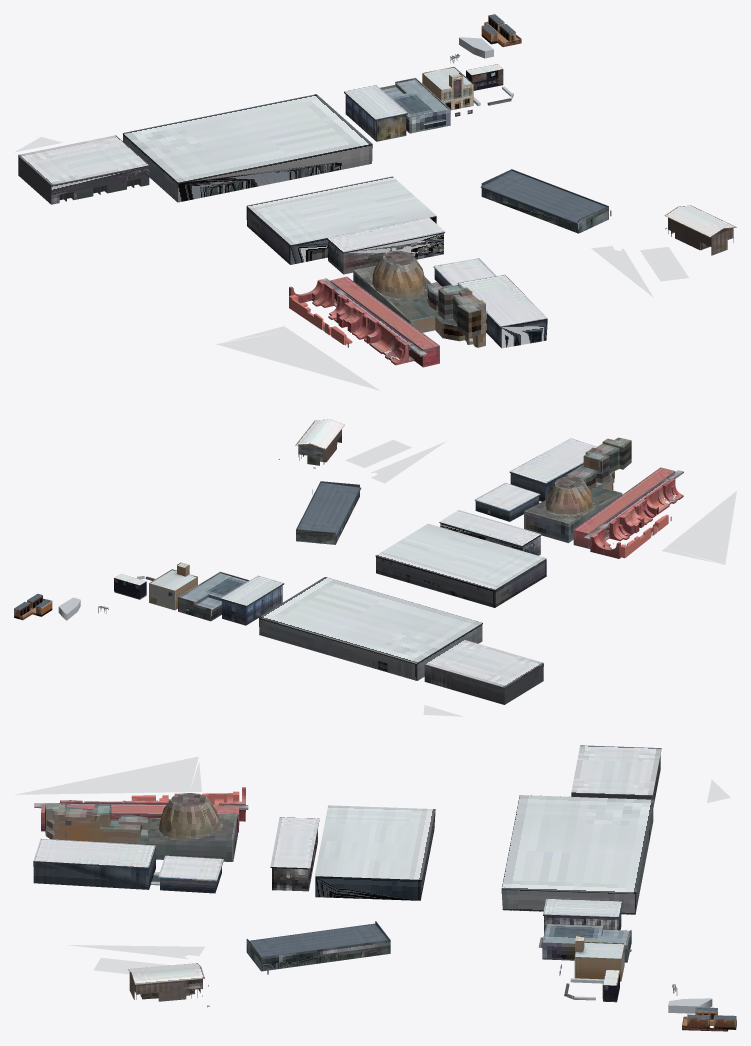
3 renders of one model, top to bottom at view 1: azimuth 30°, elevation 25°; view 2: azimuth 150°, elevation 25°; view 3: azimuth 270°, elevation 25°, orthographic. The views are drawn at different scales.
Visible parts, largest first — view 1: Buildings_建物パビリオン, Facilities_都市設備; view 2: Buildings_建物パビリオン, Facilities_都市設備; view 3: Buildings_建物パビリオン, Facilities_都市設備.
Part boxes in pixels (bbox=[...]): Buildings_建物パビリオン: bbox=[14, 64, 736, 390]; Facilities_都市設備: bbox=[289, 14, 667, 347]; Buildings_建物パビリオン: bbox=[114, 419, 736, 716]; Facilities_都市設備: bbox=[14, 459, 671, 620]; Buildings_建物パビリオン: bbox=[14, 745, 730, 1002]; Facilities_都市設備: bbox=[122, 791, 736, 1031].
Size of the model in its own units: 211 by 17.47 by 235.
Materials: 25 (22 with a texture image).
